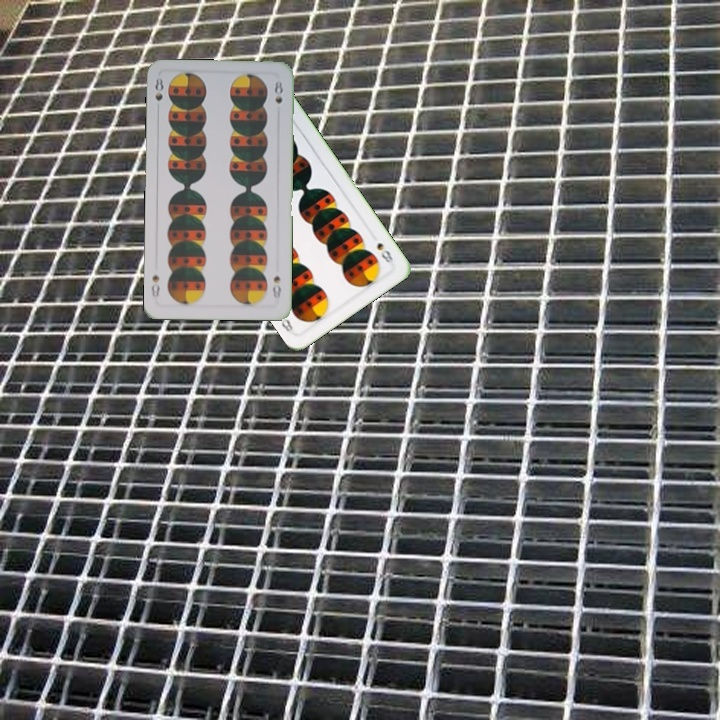S8: (372, 238, 396, 265), (268, 271, 283, 301), (151, 74, 166, 103)
